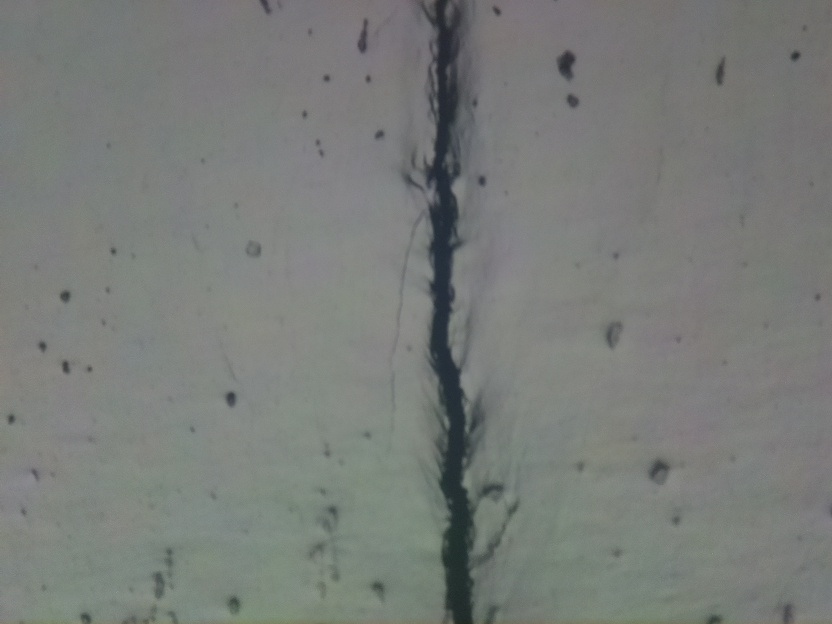crack: (415, 0, 483, 624)
